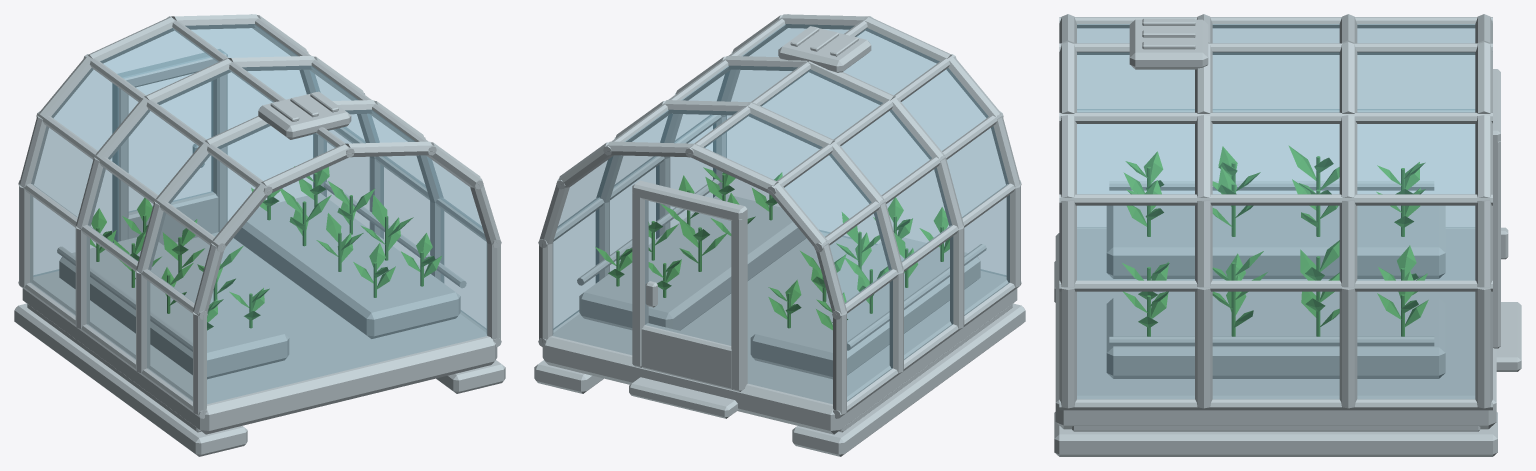
The model's file is facility_greenhouse.glb.
3 views of the same model, side by side, from view 1: azimuth 30°, elevation 25°; view 2: azimuth 150°, elevation 25°; view 3: azimuth 270°, elevation 25° (orthographic). The views are drawn at different scales.
Visible parts, largest first — view 1: facility_greenhouse; view 2: facility_greenhouse; view 3: facility_greenhouse.
Part boxes in pixels (bbox=[...]): facility_greenhouse: bbox=[14, 14, 505, 456]; facility_greenhouse: bbox=[534, 14, 1025, 456]; facility_greenhouse: bbox=[1054, 14, 1521, 456].
Size of the model in its own units: 3.44 by 2.98 by 3.75.
